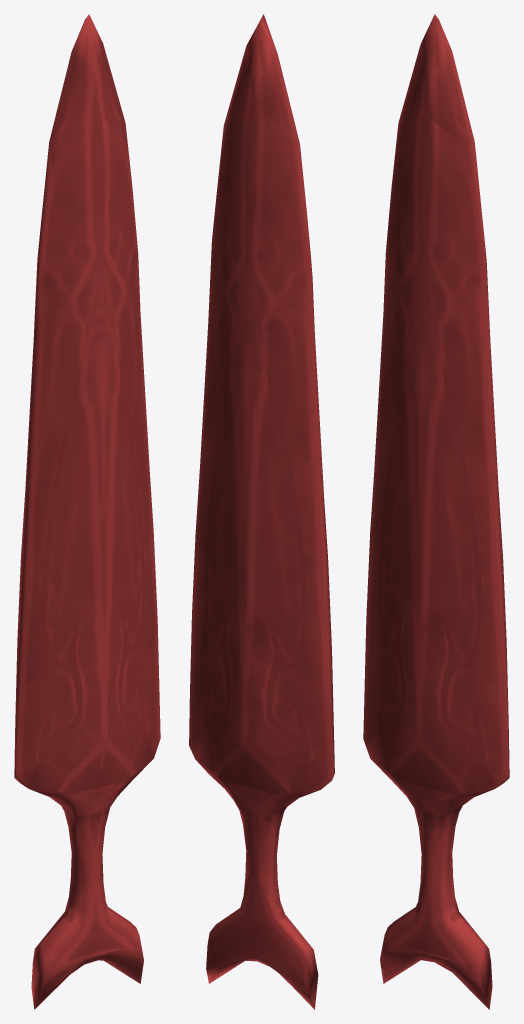
File: boss_weapon.fbx
3 views of the same model, side by side, from view 1: azimuth 30°, elevation 25°; view 2: azimuth 150°, elevation 25°; view 3: azimuth 330°, elevation 25° (orthographic).
Visible parts, largest first — view 1: polySurface1; view 2: polySurface1; view 3: polySurface1.
Boxes of the visible parts, x1,y1,x2,y2 form: polySurface1: (14,14,160,1009); polySurface1: (189,14,334,1009); polySurface1: (363,14,509,1009).
Size of the model in its own units: 38.05 by 248 by 16.43.
1 material, 1 textured.
